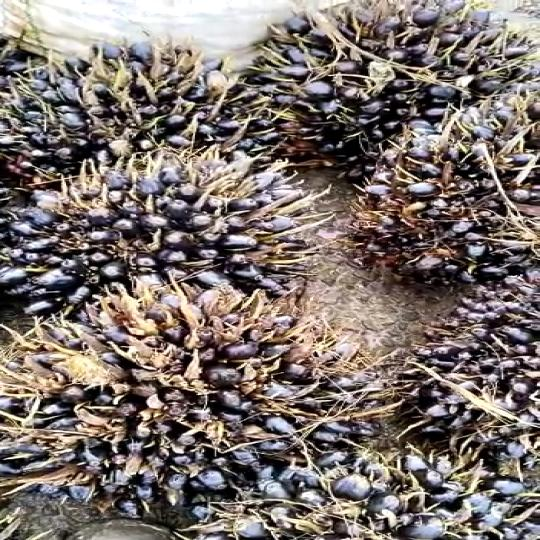mentah: (1, 304, 383, 510), (0, 142, 357, 319), (243, 0, 540, 171), (1, 33, 279, 204), (339, 68, 540, 278)
